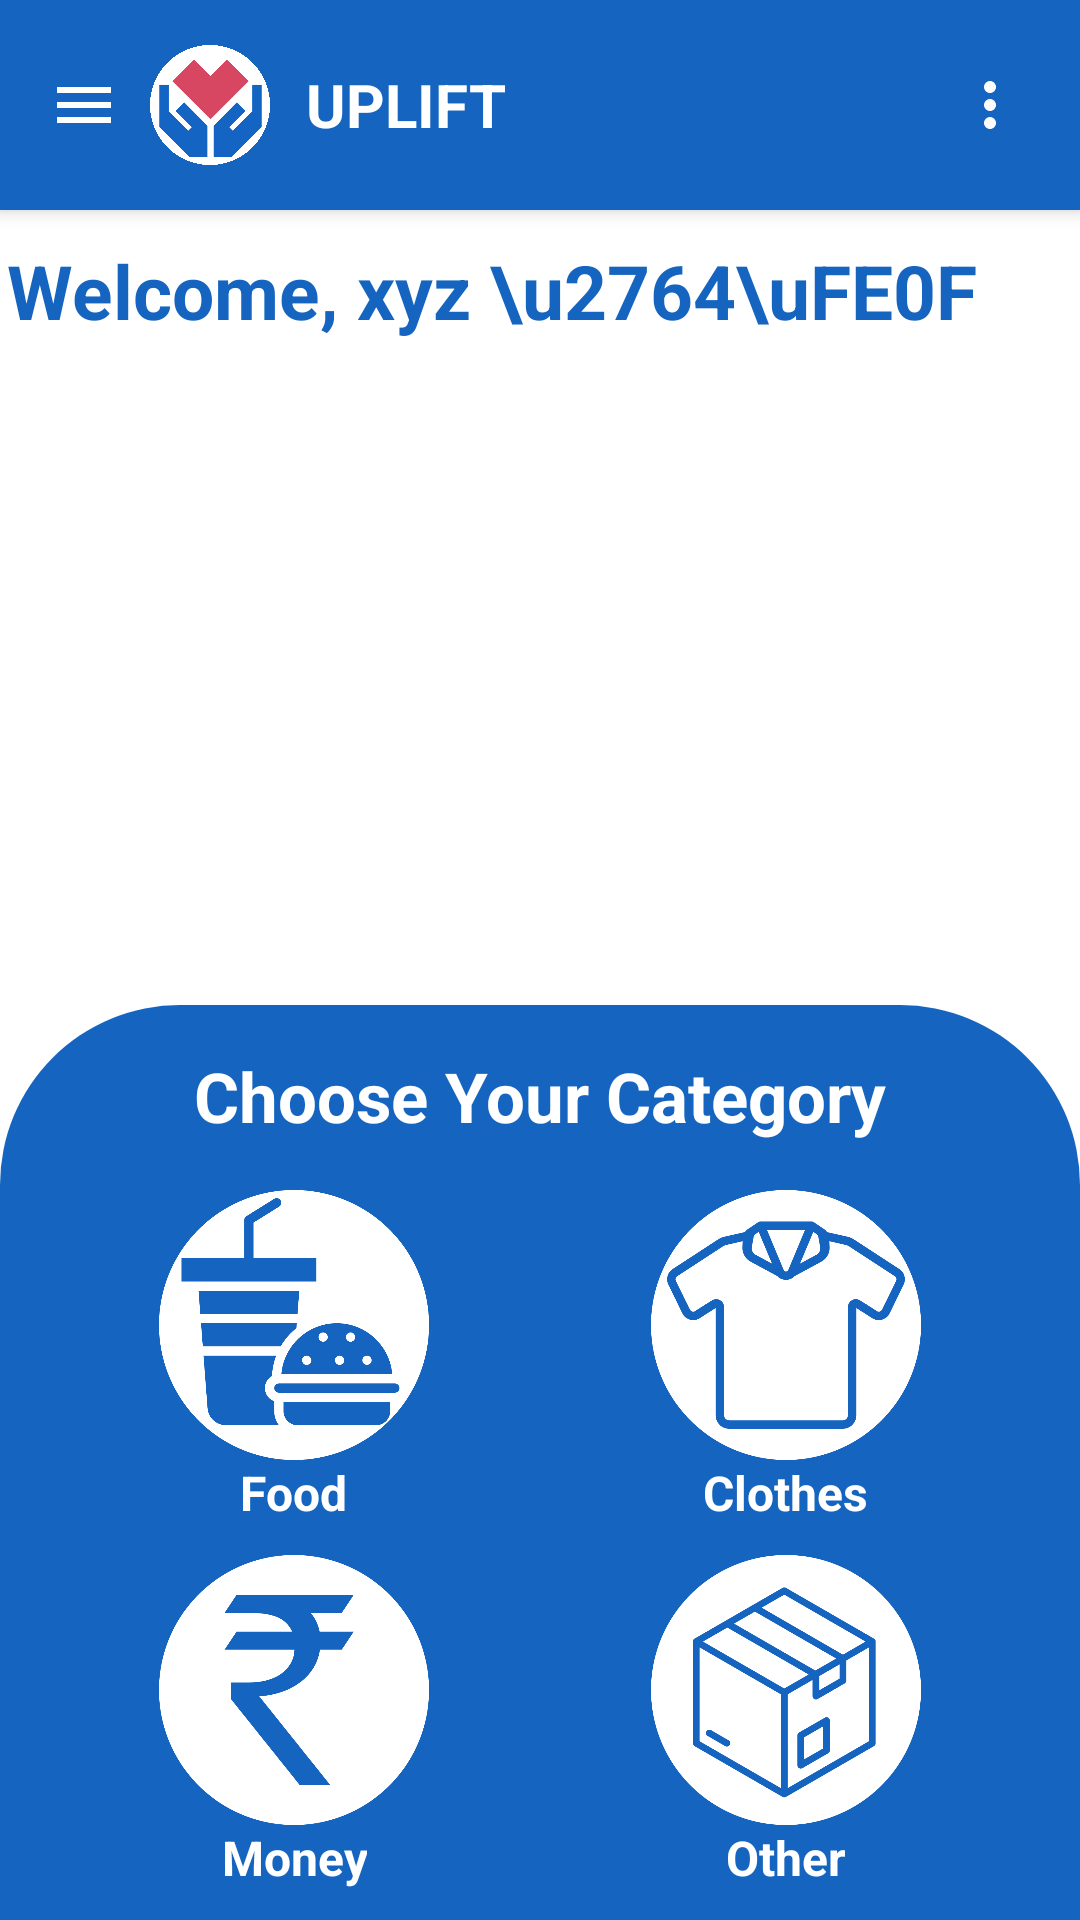

Screen size 1080×1920. Icon name, then its center in pixels as [x,y]:
bar menu: [84,105]
bar options: [990,105]
